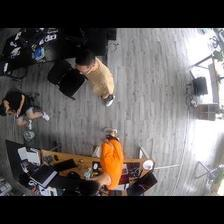normal: (88, 125, 126, 191), (75, 51, 118, 107)
